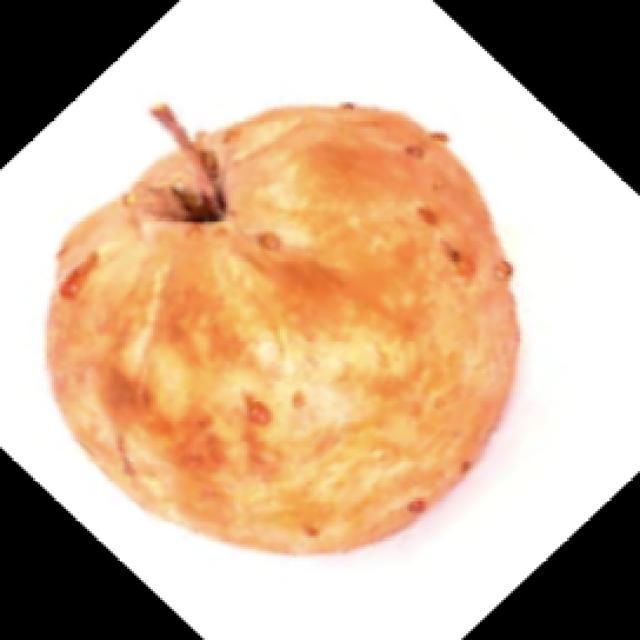Rotten: (53, 90, 522, 563)
